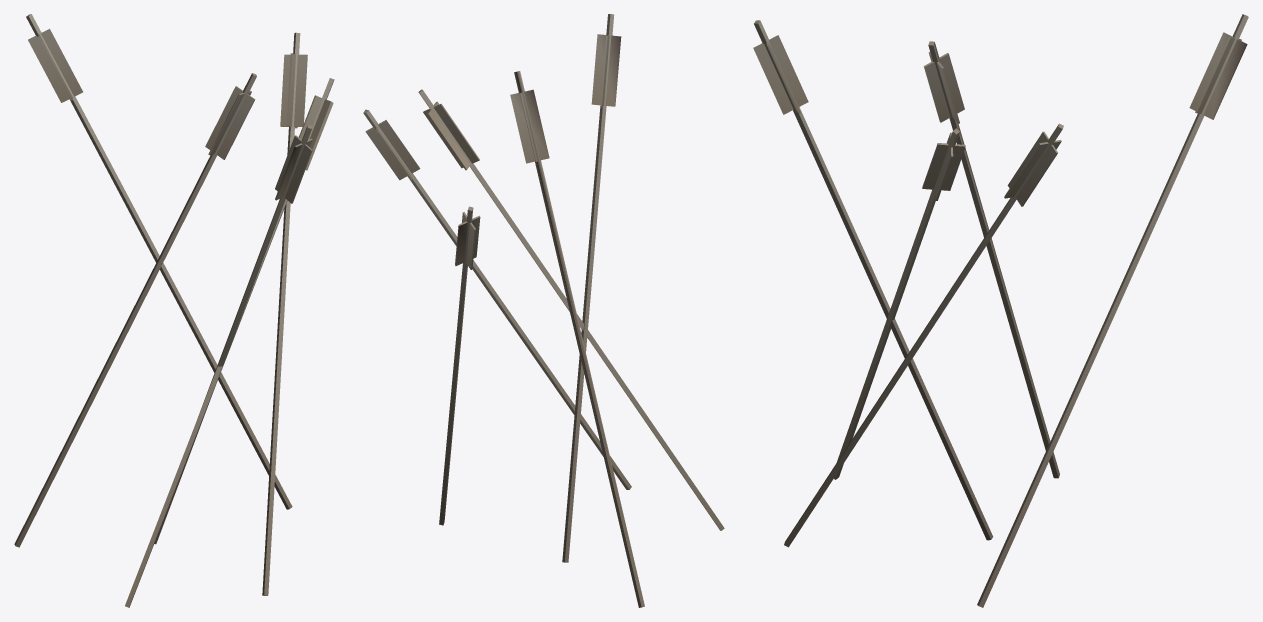
File: arrows_stuck.glb
3 views of the same model, side by side, from view 1: azimuth 30°, elevation 25°; view 2: azimuth 150°, elevation 25°; view 3: azimuth 270°, elevation 25° (orthographic). The views are drawn at different scales.
Visible parts, largest first — view 1: arrows; view 2: arrows; view 3: arrows.
Boxes of the visible parts, left/top/right/bottom form: arrows: left=14, top=14, right=334, bottom=607; arrows: left=363, top=14, right=724, bottom=607; arrows: left=753, top=14, right=1248, bottom=607.
Bounding box in the file's own units: 0.4557 × 0.7266 × 0.594.
